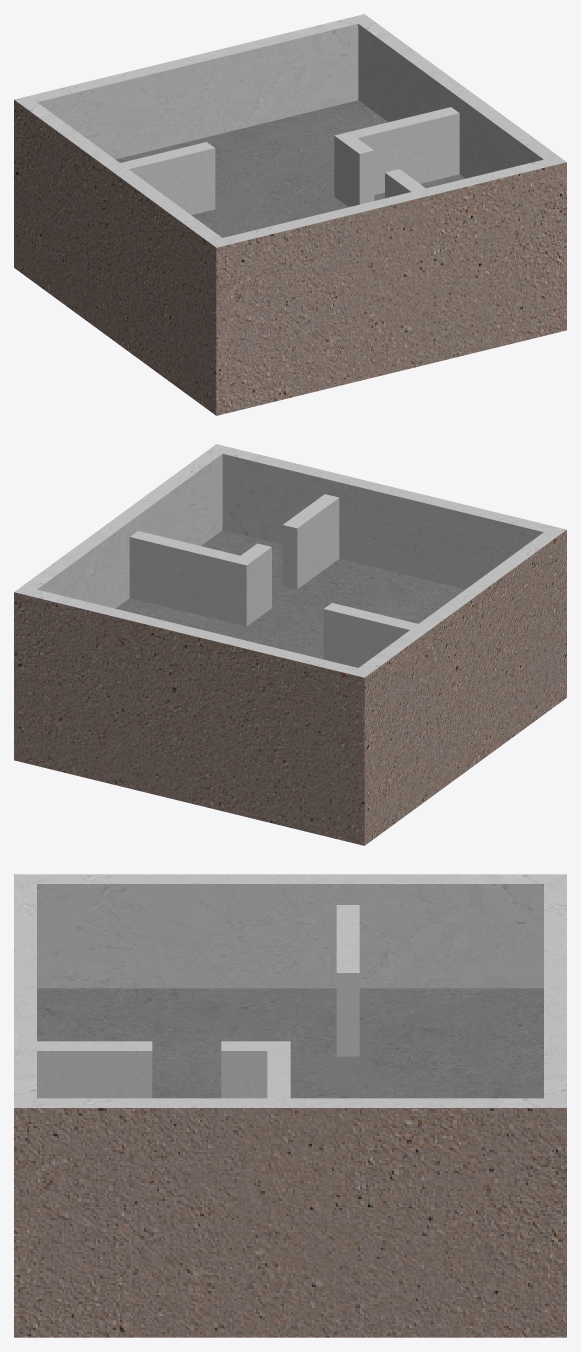
Rendered from LudusXRApartment1.glb.
3 views of the same model, one above another, from view 1: azimuth 30°, elevation 25°; view 2: azimuth 150°, elevation 25°; view 3: azimuth 270°, elevation 25° (orthographic). The views are drawn at different scales.
Visible parts, largest first — view 1: Apartment1; view 2: Apartment1; view 3: Apartment1.
Boxes of the visible parts, x1,y1,x2,y2 form: Apartment1: (14, 14, 566, 415); Apartment1: (14, 444, 566, 845); Apartment1: (14, 874, 566, 1337).
Size of the model in its own units: 12 by 5.5 by 12.
1 material, 1 textured.
